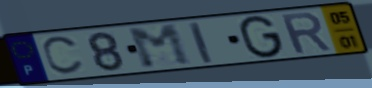8: (86, 31, 126, 73)
C: (40, 34, 87, 77)
G: (237, 14, 286, 60)
I: (186, 20, 216, 66)
M: (124, 22, 196, 71)
R: (277, 10, 335, 57)
